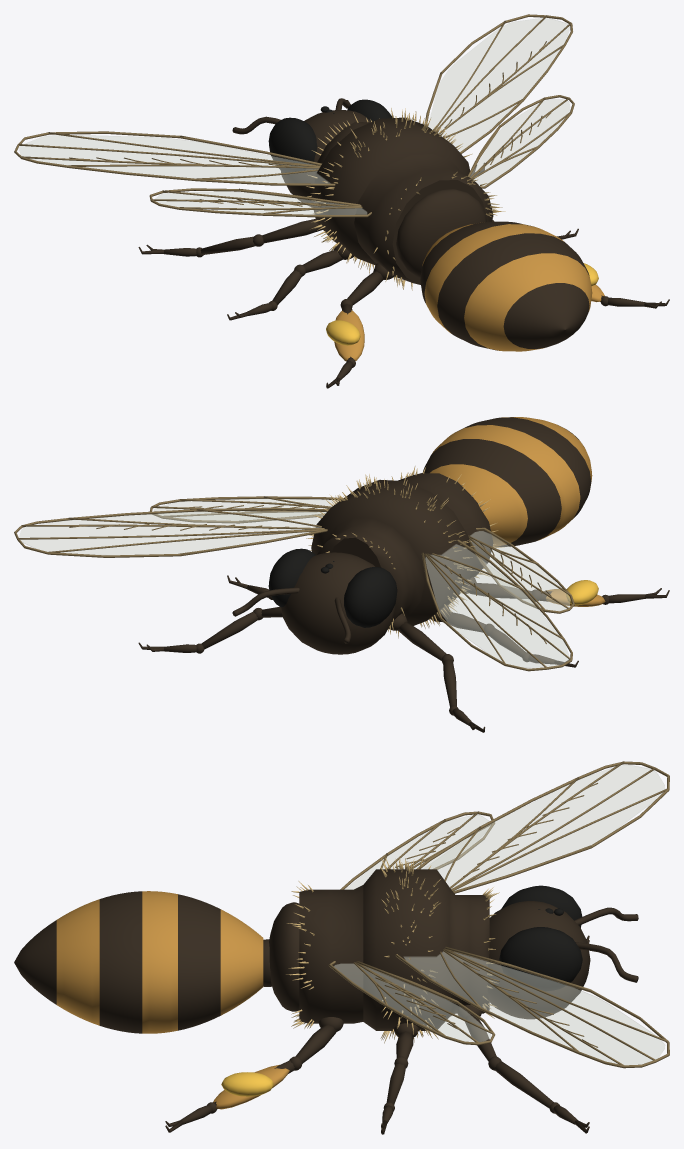
File: Honeybee.fbx
3 renders of one model, top to bottom at view 1: azimuth 30°, elevation 25°; view 2: azimuth 150°, elevation 25°; view 3: azimuth 270°, elevation 25°, orthographic. The views are drawn at different scales.
Parts seen in each view (by area): view 1: Material group Honeybee_DarkCuticle, Material group Honeybee_WingMembrane, Material group Honeybee_WingVein, Material group Honeybee_AmberCuticle, Material group Honeybee_Eye, Material group Honeybee_GoldenSetae, Material group Honeybee_Pollen; view 2: Material group Honeybee_DarkCuticle, Material group Honeybee_WingMembrane, Material group Honeybee_WingVein, Material group Honeybee_AmberCuticle, Material group Honeybee_Eye, Material group Honeybee_GoldenSetae, Material group Honeybee_Pollen; view 3: Material group Honeybee_DarkCuticle, Material group Honeybee_WingMembrane, Material group Honeybee_AmberCuticle, Material group Honeybee_WingVein, Material group Honeybee_Eye, Material group Honeybee_GoldenSetae, Material group Honeybee_Pollen.
Part boxes in pixels (bbox=[...]): Material group Honeybee_DarkCuticle: bbox=[138, 98, 669, 388]; Material group Honeybee_WingMembrane: bbox=[19, 18, 570, 214]; Material group Honeybee_WingVein: bbox=[14, 14, 574, 217]; Material group Honeybee_AmberCuticle: bbox=[334, 222, 604, 361]; Material group Honeybee_Eye: bbox=[268, 99, 392, 172]; Material group Honeybee_GoldenSetae: bbox=[306, 108, 505, 290]; Material group Honeybee_Pollen: bbox=[326, 263, 598, 345]; Material group Honeybee_DarkCuticle: bbox=[138, 417, 669, 732]; Material group Honeybee_WingMembrane: bbox=[19, 498, 570, 668]; Material group Honeybee_WingVein: bbox=[14, 496, 574, 671]; Material group Honeybee_AmberCuticle: bbox=[430, 417, 605, 606]; Material group Honeybee_Eye: bbox=[268, 548, 397, 627]; Material group Honeybee_GoldenSetae: bbox=[306, 466, 504, 638]; Material group Honeybee_Pollen: bbox=[566, 580, 598, 605]; Material group Honeybee_DarkCuticle: bbox=[14, 869, 638, 1134]; Material group Honeybee_WingMembrane: bbox=[334, 764, 665, 1065]; Material group Honeybee_AmberCuticle: bbox=[56, 891, 289, 1109]; Material group Honeybee_WingVein: bbox=[328, 761, 669, 1068]; Material group Honeybee_Eye: bbox=[499, 885, 582, 991]; Material group Honeybee_GoldenSetae: bbox=[286, 856, 499, 1045]; Material group Honeybee_Pollen: bbox=[221, 1072, 273, 1096].
Size of the model in its own units: 1 by 0.268 by 0.9086.
